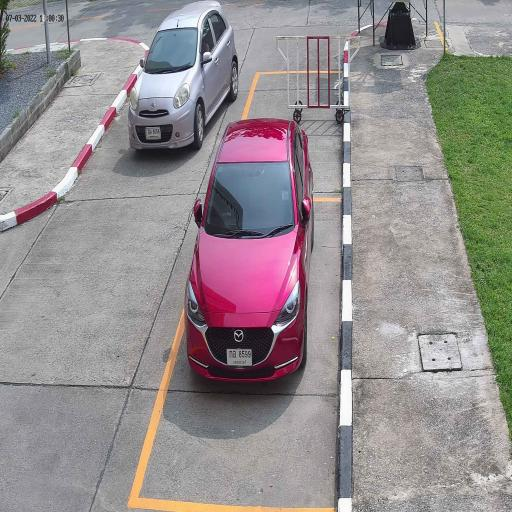car: (186, 118, 312, 382), (128, 0, 237, 152)
